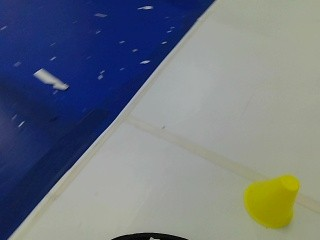cone: (243, 163, 302, 230)
